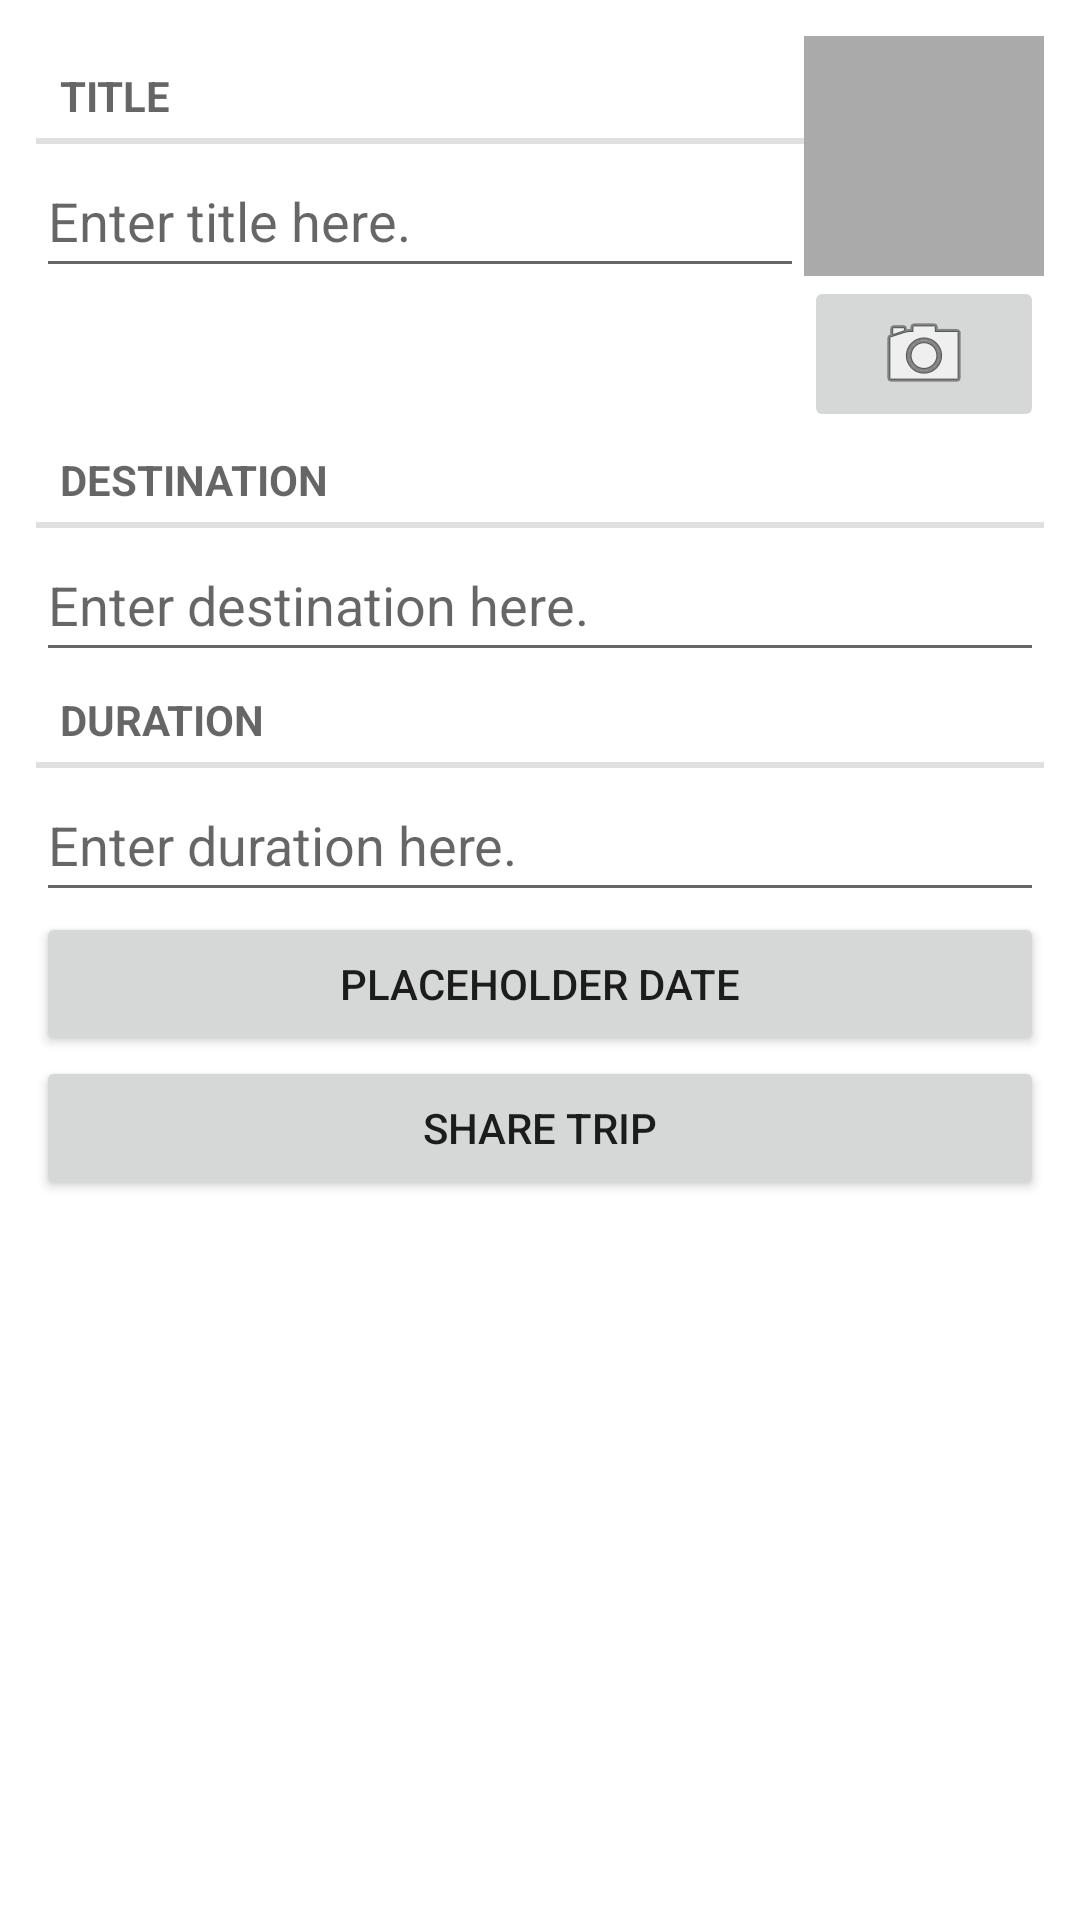

Icons on this 1080x1920 Android screen, each with its box as [left=x1, top=y1, right=x2, bottom=y2]:
camera: [left=816, top=294, right=1032, bottom=414]
